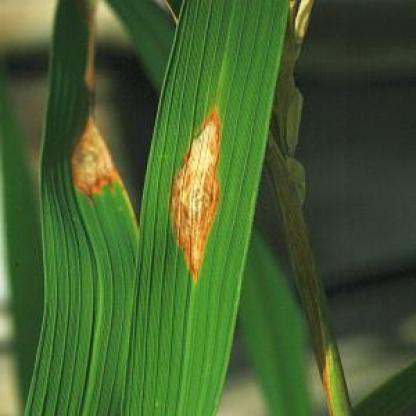Rice blast: (166, 99, 223, 291), (62, 98, 124, 206)
